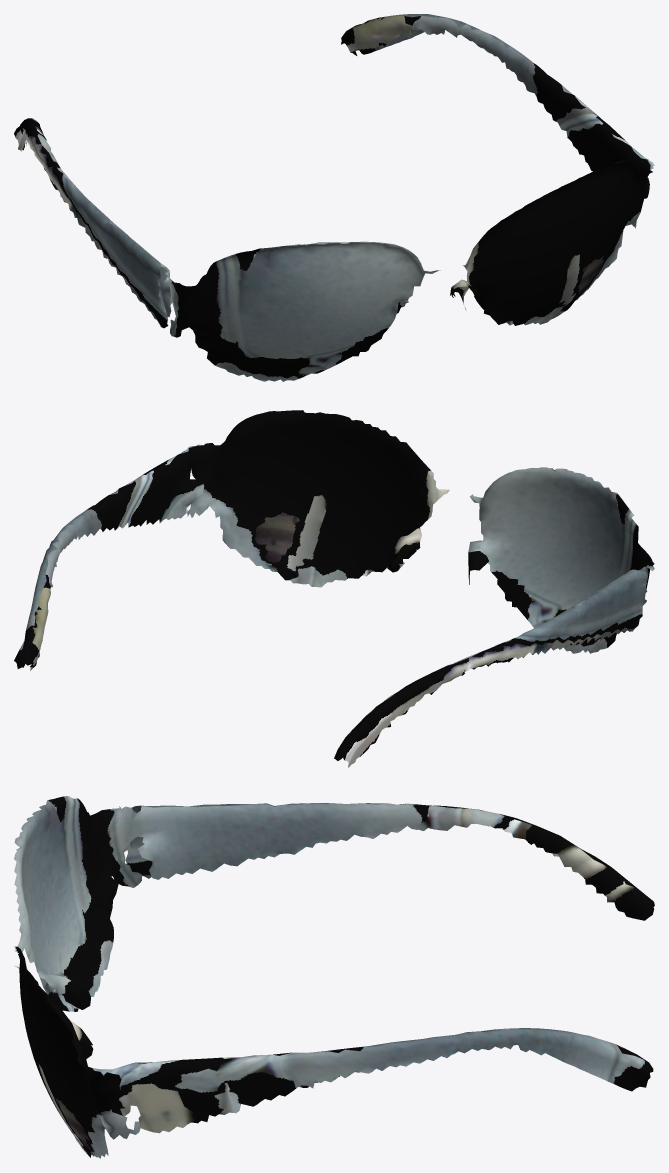
File: scan_align.obj
3 renders of one model, top to bottom at view 1: azimuth 30°, elevation 25°; view 2: azimuth 150°, elevation 25°; view 3: azimuth 270°, elevation 25°, orthographic. The views are drawn at different scales.
Size of the model in its own units: 0.1447 by 0.0454 by 0.1444.
